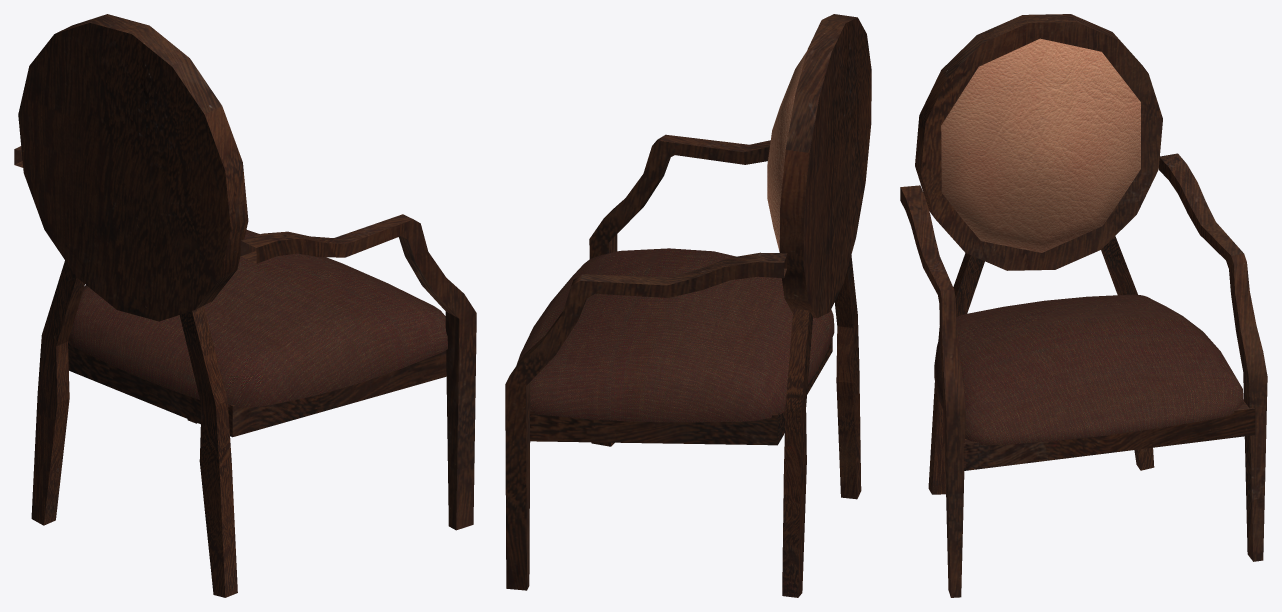
The model's file is ZW_yizi.fbx.
3 views of the same model, side by side, from view 1: azimuth 30°, elevation 25°; view 2: azimuth 150°, elevation 25°; view 3: azimuth 270°, elevation 25° (orthographic). The views are drawn at different scales.
Visible parts, largest first — view 1: ZW_yizi; view 2: ZW_yizi; view 3: ZW_yizi.
Part boxes in pixels (x1,y1,x2,y2): ZW_yizi: (14, 14, 476, 597); ZW_yizi: (505, 14, 871, 597); ZW_yizi: (900, 14, 1267, 597).
Bounding box in the file's own units: 84.55 × 129 × 93.25.
